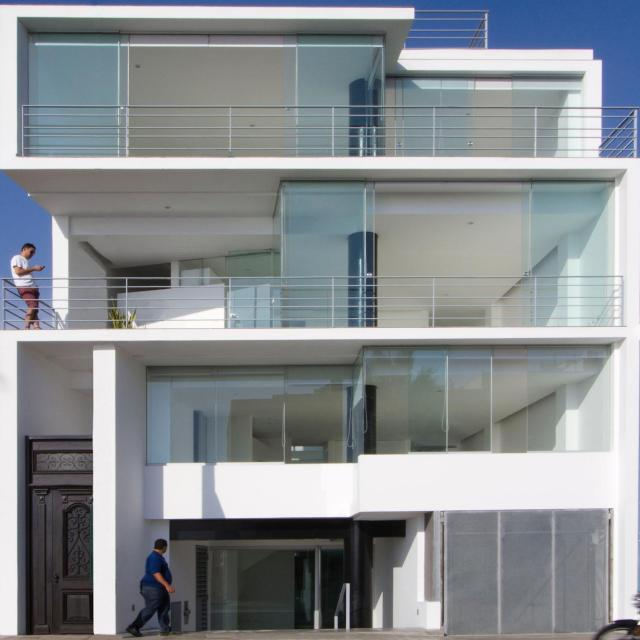Railing: (24, 101, 634, 156), (7, 279, 634, 332), (402, 11, 488, 48)
door: (443, 509, 611, 628), (23, 434, 97, 630), (318, 545, 354, 633)
wall: (1, 1, 638, 637)
windows: (143, 343, 612, 462), (271, 176, 377, 276), (526, 178, 614, 274), (212, 546, 312, 630), (29, 33, 131, 108), (283, 32, 385, 102), (386, 74, 585, 100), (226, 246, 274, 275)
